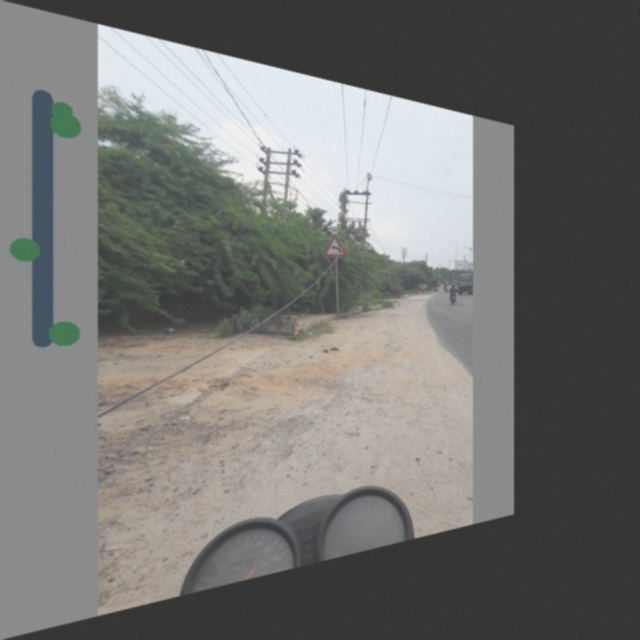Left_Hand_Curve: (323, 234, 347, 259)
